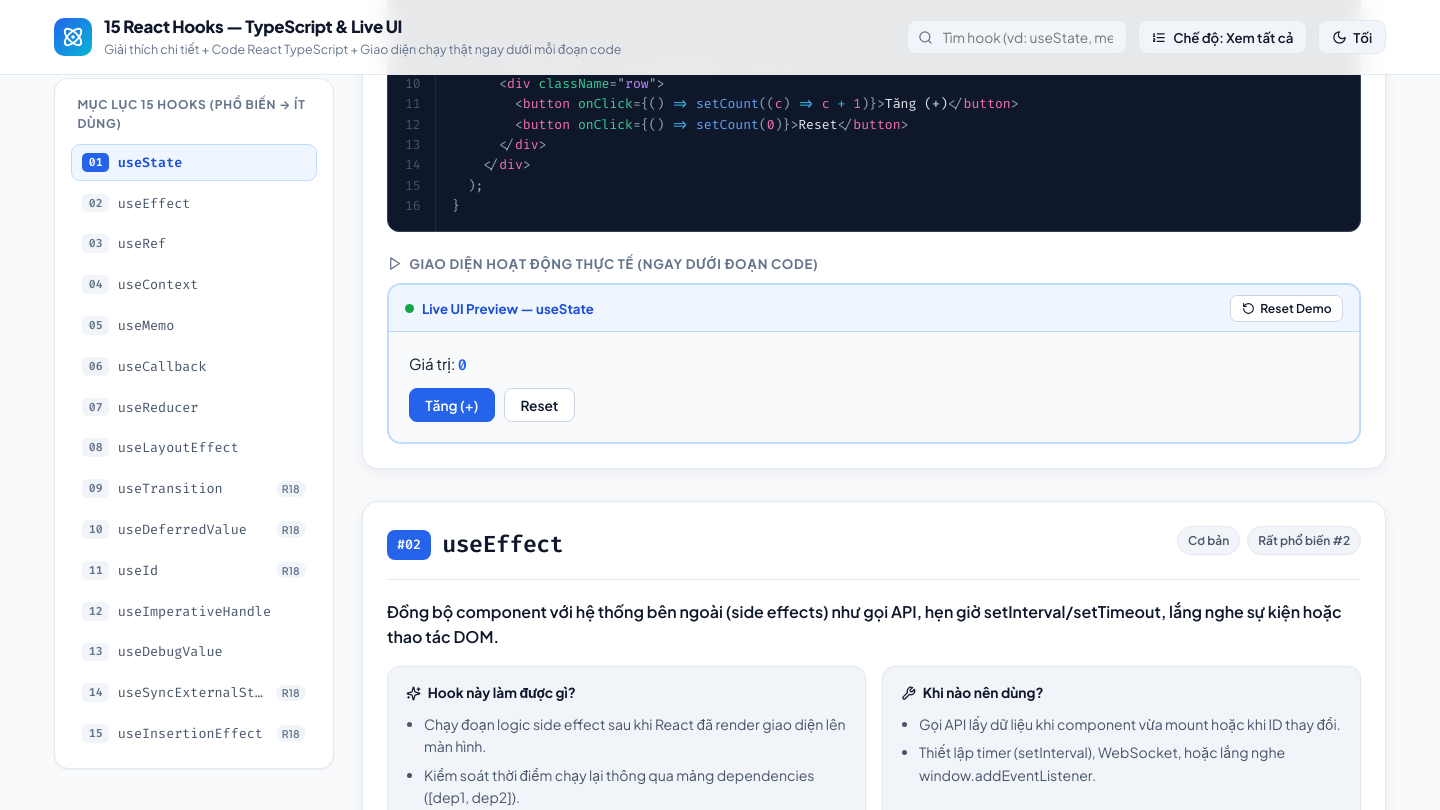
Test: 15 React Hooks + TypeScript Concise Demos › App: hiển thị đủ 15 Hooks với code ngắn gọn <= 35 dòng và Live UI bên dưới
(page scrolled)
Click the button "Tăng (+)" at (452, 405), box x1=409 y1=388 x2=495 y2=422
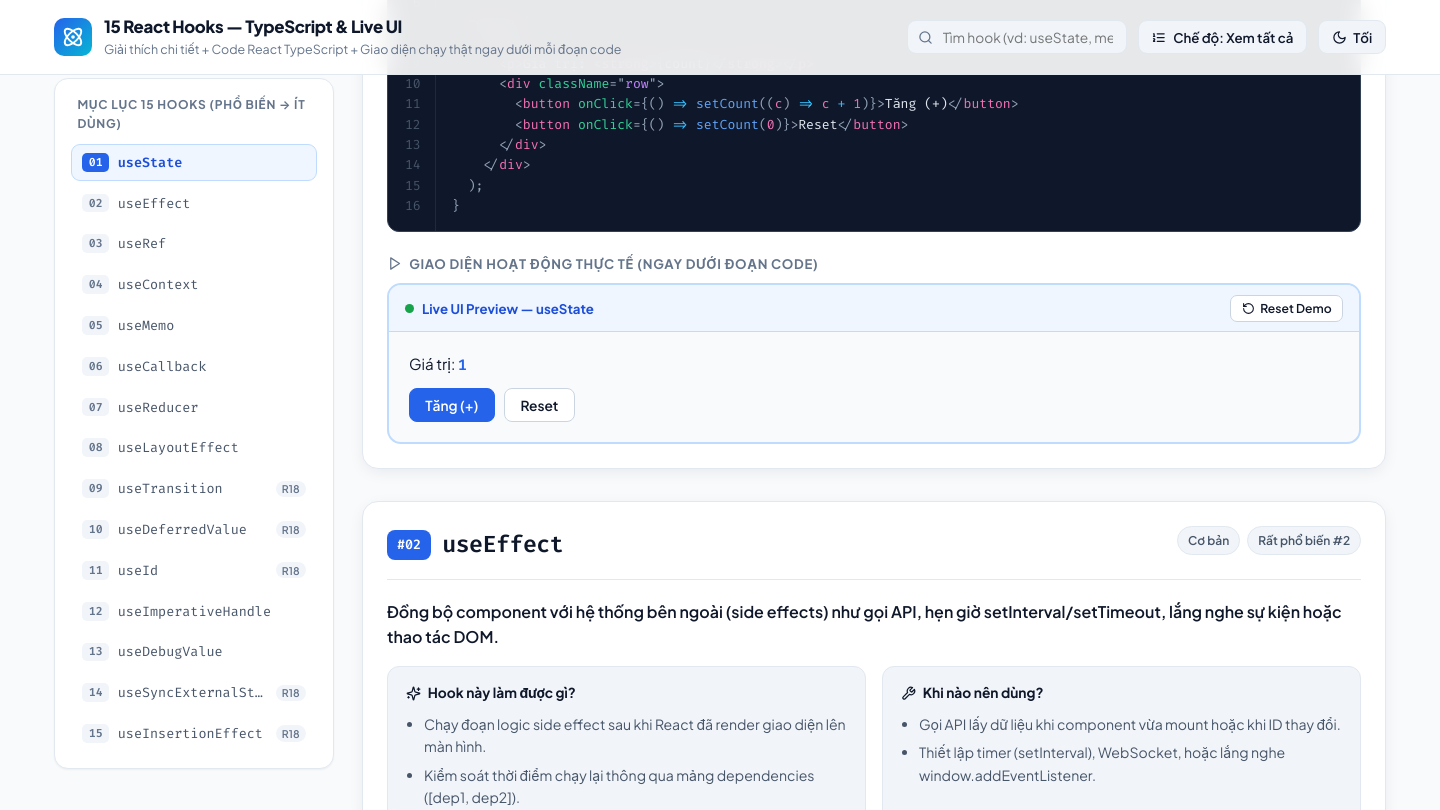
Check: the text "Giá trị:" reads "Giá trị: 1", box x1=409 y1=354 x2=467 y2=375
